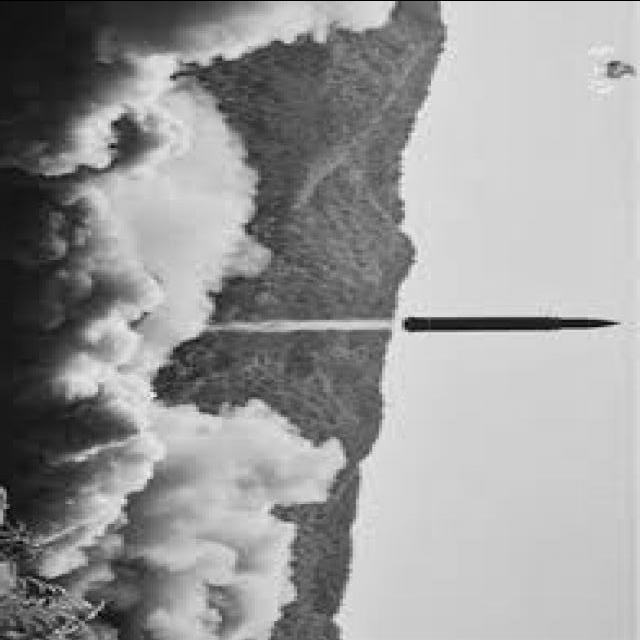missile: (395, 310, 636, 335)
